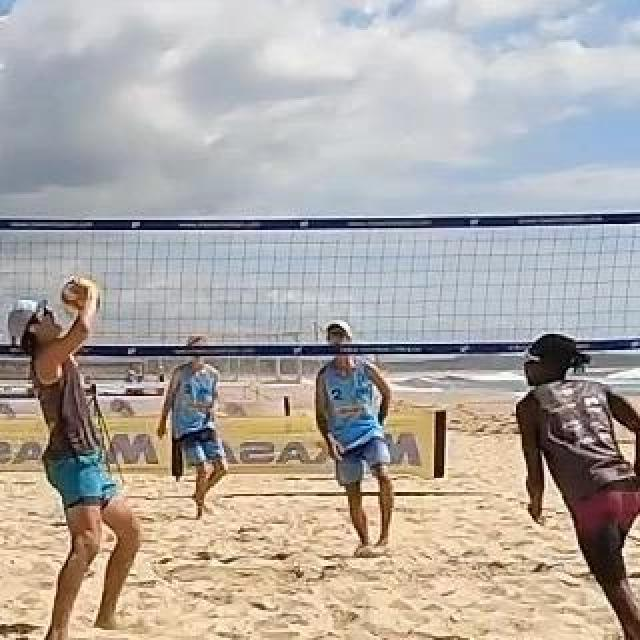volleyball: (59, 276, 101, 314)
